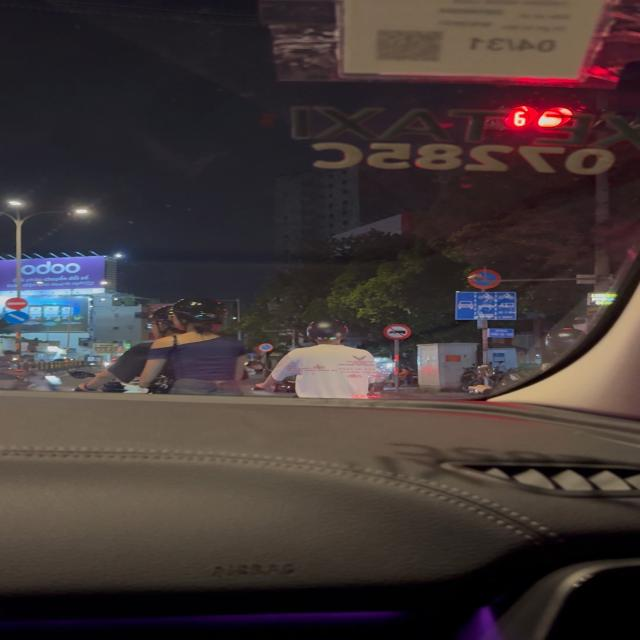Bien bao cam do xe: (465, 269, 504, 290), (256, 342, 275, 352)
Bien bao cam xe so-mi ro-mooc: (382, 323, 414, 341)
